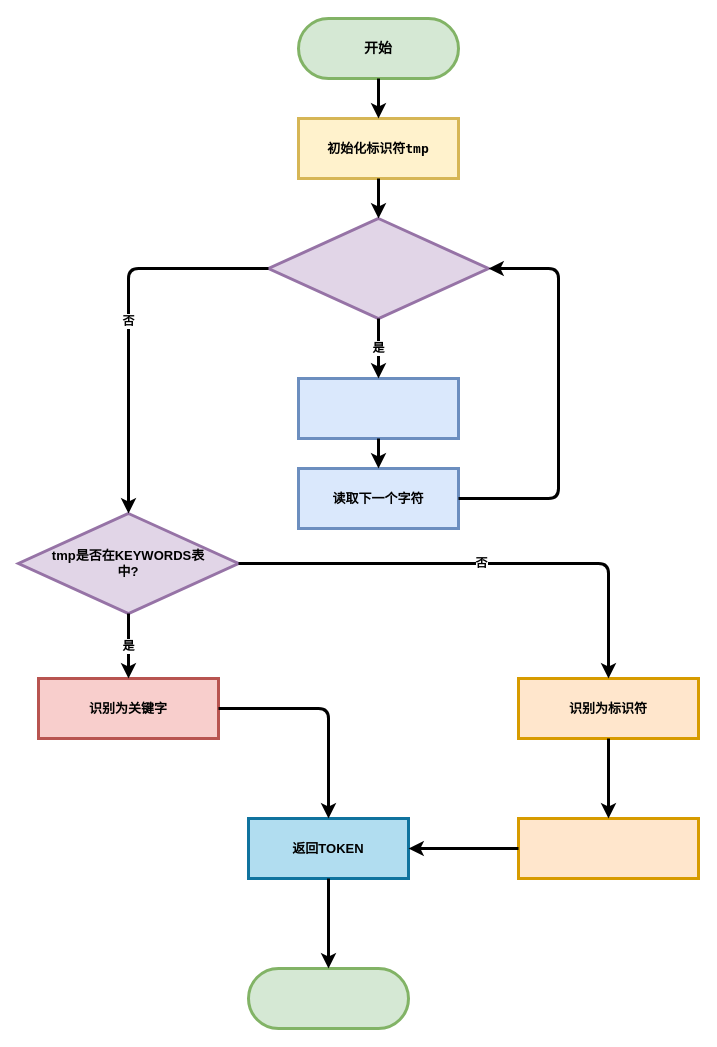
Some shapes in this 717 by 1047 pixel diagram are drawn without their labels. Here are the shapes that lost their labels. From the top down, the centre of each, then its label:
At (378,268): "当前字符是 字母/数字/下划线?".
At (378,408): "将字符添加到tmp".
At (608,848): "添加到符号表".
At (328,998): "结束".
